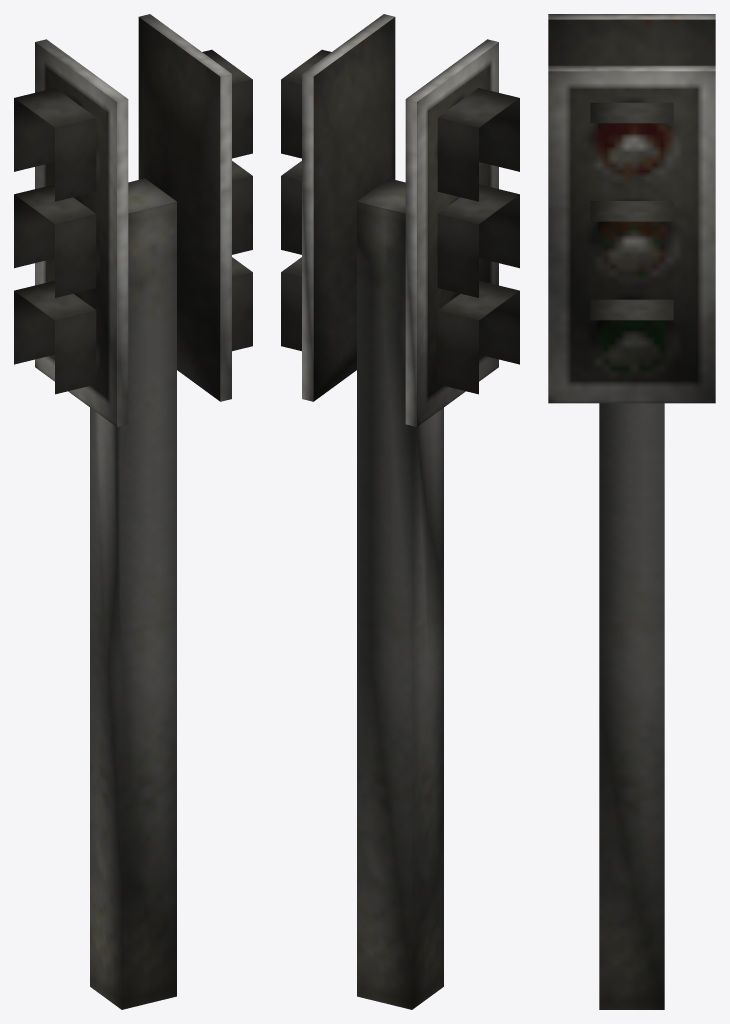
The model's file is trafficlight4.fbx.
The picture shows the model from 3 angles, left to right: view 1: azimuth 30°, elevation 25°; view 2: azimuth 150°, elevation 25°; view 3: azimuth 270°, elevation 25°; orthographic projection. The views are drawn at different scales.
Parts seen in each view (by area): view 1: trafficlight4; view 2: trafficlight4; view 3: trafficlight4.
Part boxes in pixels (x1=…): trafficlight4: x1=14, y1=14, x2=252, y2=1009; trafficlight4: x1=281, y1=14, x2=519, y2=1009; trafficlight4: x1=548, y1=14, x2=715, y2=1009.
Bounding box in the file's own units: 86 × 61.6 × 388.
Materials: 1 (1 with a texture image).
